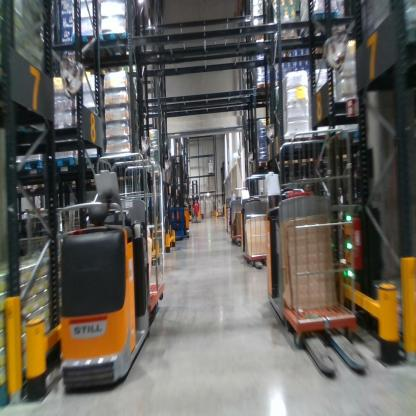forklift: (166, 122, 192, 250), (188, 173, 205, 229)
pallet: (293, 8, 338, 45), (99, 27, 134, 61), (70, 31, 102, 67), (269, 30, 298, 61), (12, 154, 45, 177), (105, 151, 141, 172), (72, 147, 105, 168), (49, 155, 77, 174), (254, 81, 276, 101), (291, 153, 317, 167), (255, 160, 277, 174), (273, 154, 293, 169), (34, 180, 54, 193)
pallet_truck: (53, 194, 173, 394), (262, 167, 374, 380), (240, 195, 276, 273), (227, 194, 247, 245)
